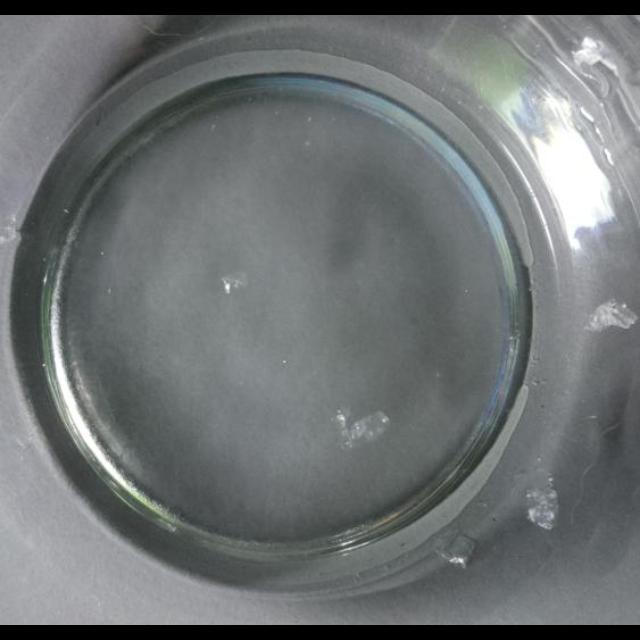Fibre: (338, 410, 392, 450), (588, 300, 638, 332), (572, 38, 614, 76), (526, 485, 560, 529), (1, 218, 22, 246), (222, 274, 246, 296)
